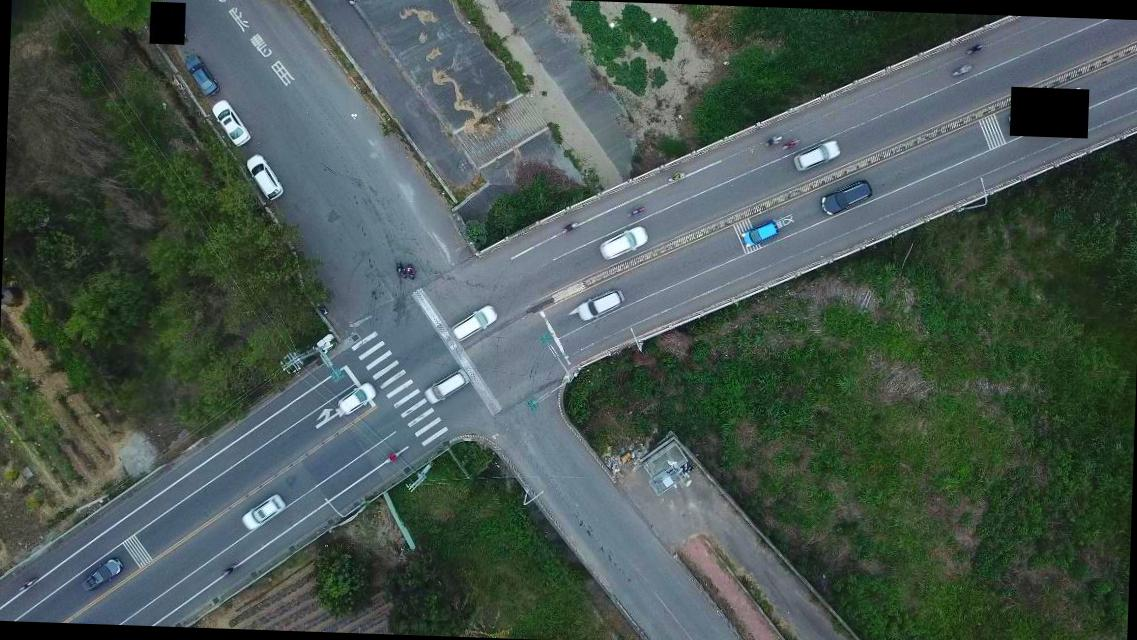vehicle: (818, 178, 873, 216), (210, 98, 250, 148), (421, 366, 469, 406), (790, 138, 840, 176), (599, 223, 647, 262), (576, 285, 622, 325), (245, 155, 283, 202), (182, 54, 219, 99), (80, 556, 123, 594), (242, 493, 282, 532), (454, 304, 498, 339), (336, 382, 374, 416), (742, 220, 780, 248)
